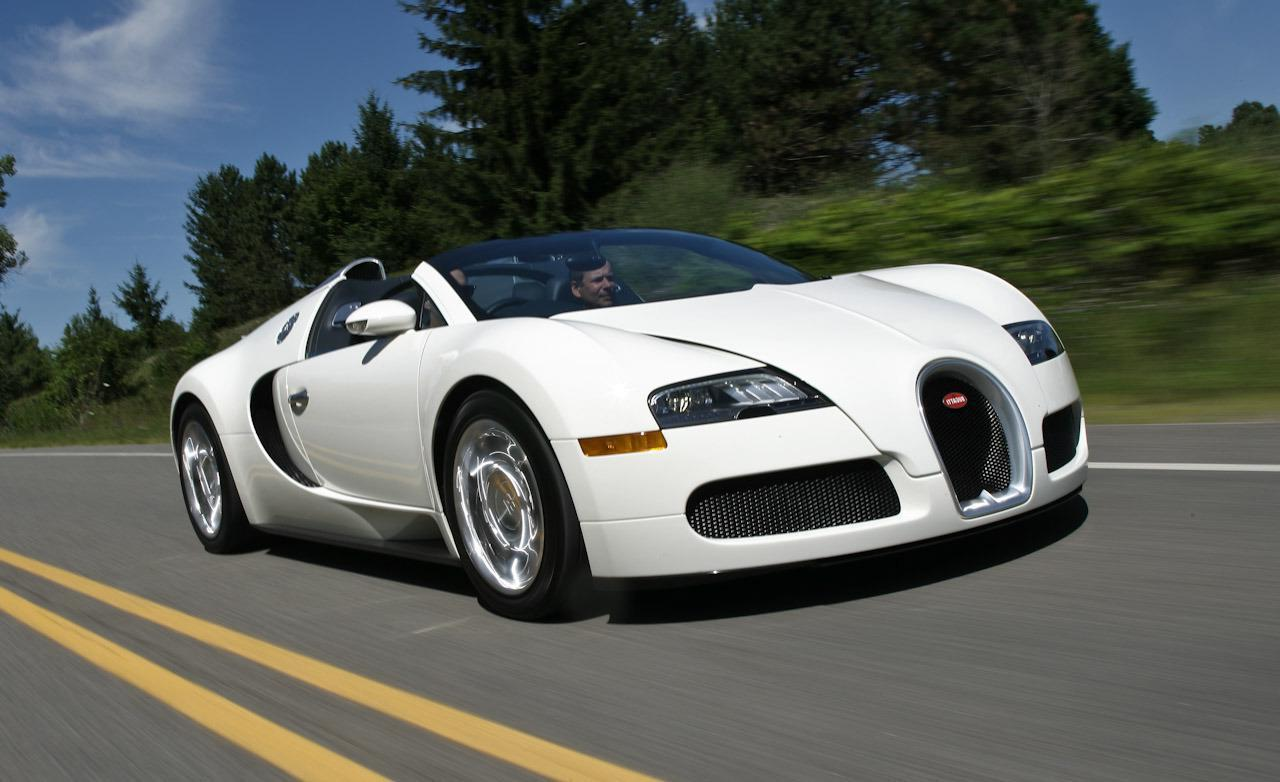Car: (145, 187, 1132, 637)
